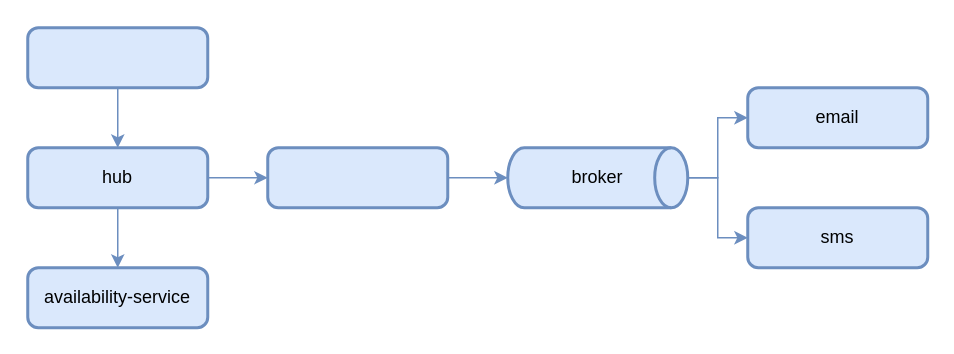
Image size: 954x354. Some labels were removed from this diagram. The centre of each missing label's shape, as x and y in pixels:
"client-calls" belongs at pixel 117 57.
"notification-service" belongs at pixel 357 177.
